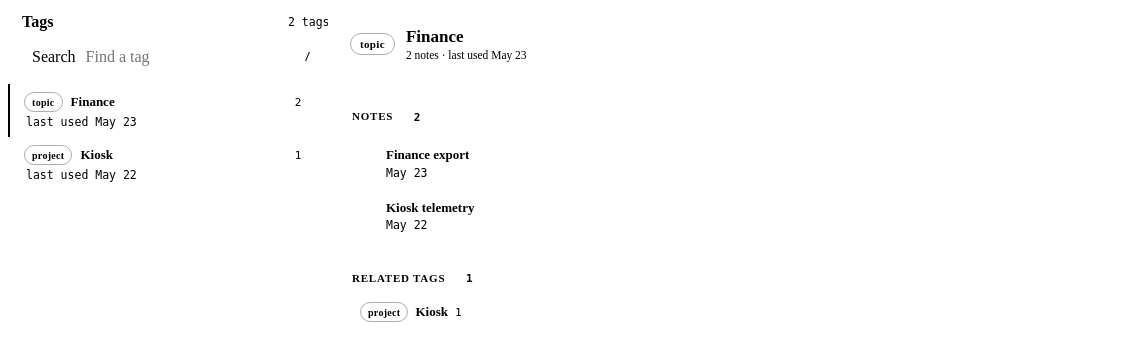
TagsView › shows co-occurring tags and jumps to one when clicked
Step 1. Click the button with aria-label "Show tag: Kiosk" → point(411, 312), box top-left (352, 298), bottom-right (470, 326)
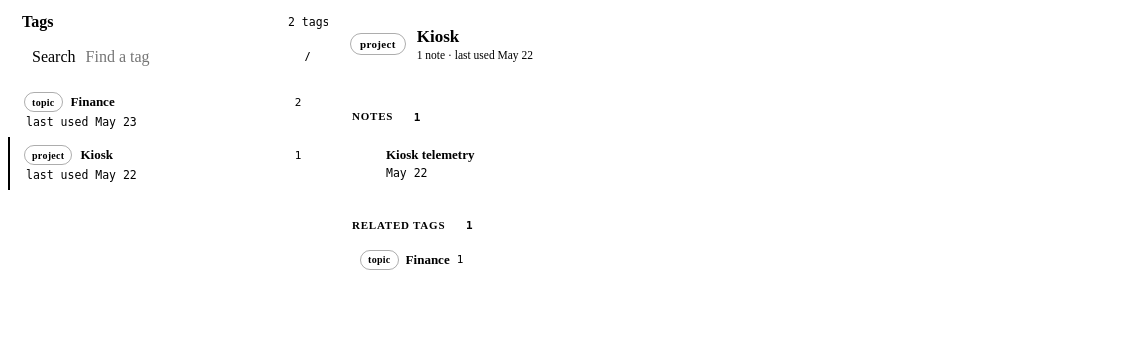
Expected: the heading "Kiosk" is shown, top-left (417, 27), bottom-right (459, 46)
Expected: the button with aria-label "Open note: Kiosk telemetry" is shown, top-left (352, 137), bottom-right (1112, 188)
